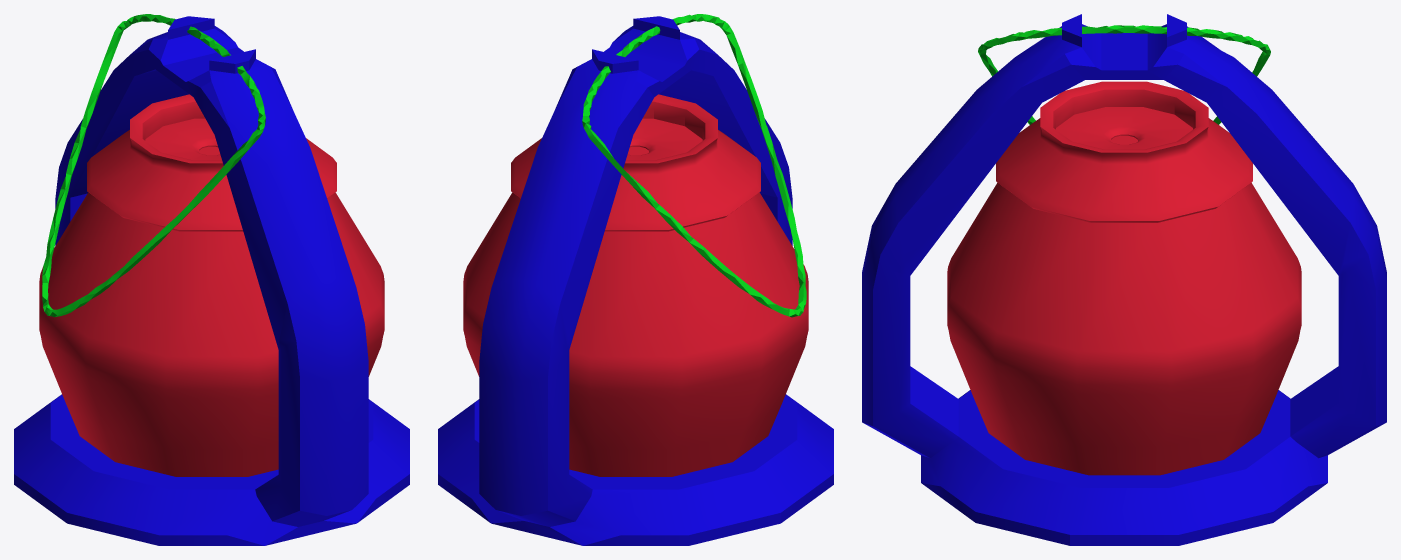
File: lucerna_lightspell.fbx
3 views of the same model, side by side, from view 1: azimuth 30°, elevation 25°; view 2: azimuth 150°, elevation 25°; view 3: azimuth 270°, elevation 25° (orthographic). The views are drawn at different scales.
Visible parts, largest first — view 1: Circle; view 2: Circle; view 3: Circle.
Boxes of the visible parts, <box> form: Circle: <box>14,14,409,545</box>; Circle: <box>438,14,833,545</box>; Circle: <box>862,14,1386,545</box>.
Size of the model in its own units: 193 by 228 by 249.
